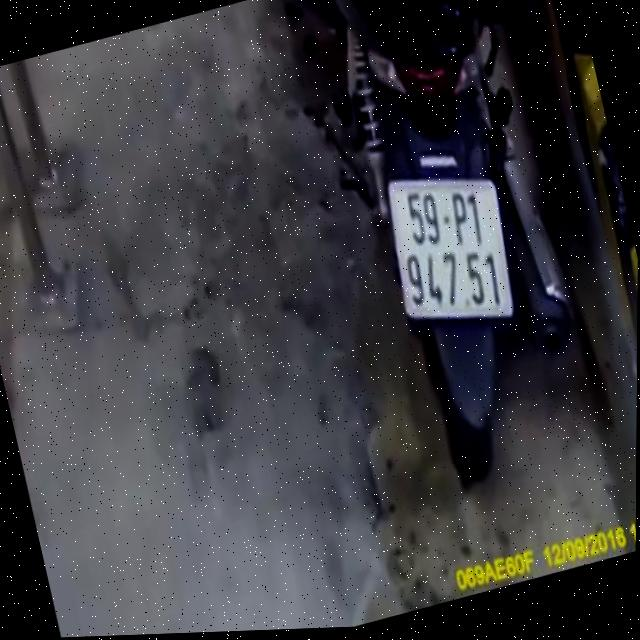motorcycle: (289, 0, 626, 544)
plate: (368, 150, 530, 351)
